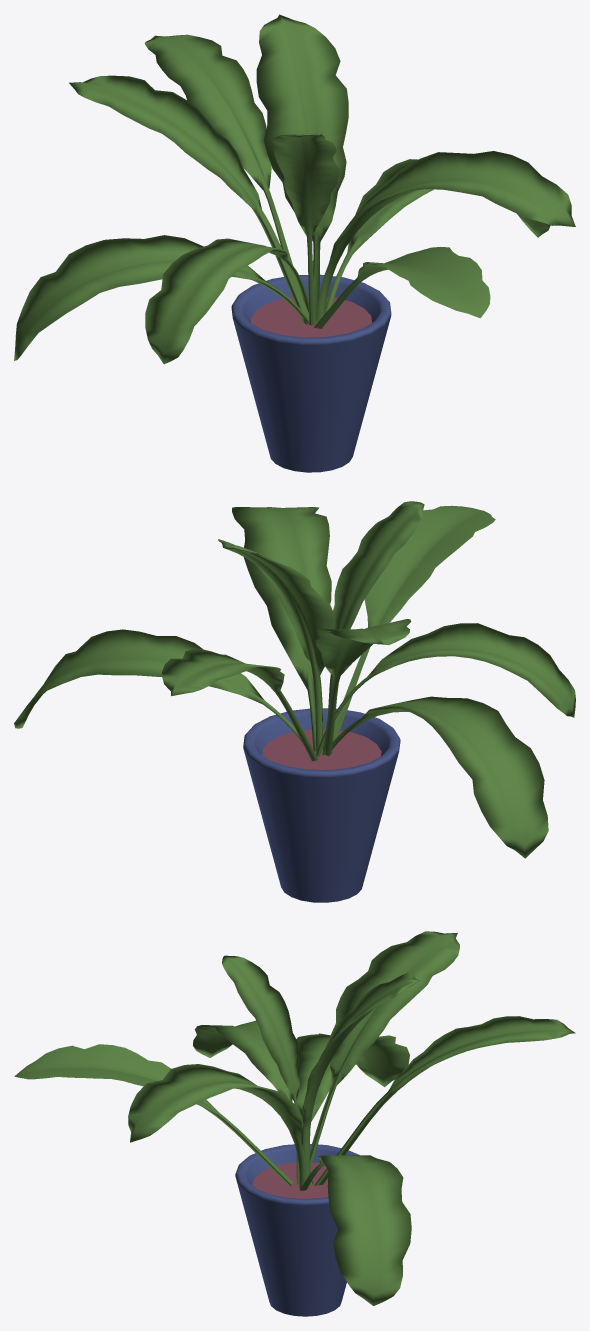
File: testblum.fbx
3 views of the same model, one above another, from view 1: azimuth 30°, elevation 25°; view 2: azimuth 150°, elevation 25°; view 3: azimuth 270°, elevation 25° (orthographic). The views are drawn at different scales.
Visible parts, largest first — view 1: polySurface10, polySurface6, polySurface2, polySurface4, polySurface9, polySurface7, polySurface8, polySurface1, polySurface5, polySurface3; view 2: polySurface10, polySurface4, polySurface2, polySurface8, polySurface1, polySurface3, polySurface5, polySurface6, polySurface9, polySurface7; view 3: polySurface10, polySurface3, polySurface7, polySurface2, polySurface1, polySurface9, polySurface5, polySurface4, polySurface6, polySurface8.
Boxes of the visible parts, x1,y1,x2,y2 form: polySurface10: (231, 274, 391, 472); polySurface6: (256, 14, 348, 320); polySurface2: (316, 151, 575, 322); polySurface4: (14, 235, 308, 360); polySurface9: (144, 34, 302, 297); polySurface7: (69, 75, 308, 324); polySurface8: (145, 238, 308, 364); polySurface1: (314, 247, 490, 328); polySurface5: (272, 133, 339, 325); polySurface3: (325, 159, 550, 312); polySurface10: (243, 708, 400, 902); polySurface4: (322, 696, 548, 858); polySurface2: (232, 507, 331, 751); polySurface8: (316, 623, 575, 757); polySurface1: (332, 505, 495, 749); polySurface3: (14, 629, 302, 742); polySurface5: (328, 501, 424, 713); polySurface6: (218, 539, 335, 753); polySurface9: (162, 649, 318, 761); polySurface7: (315, 619, 411, 756); polySurface10: (235, 1144, 359, 1316); polySurface3: (300, 1155, 411, 1305); polySurface7: (310, 931, 459, 1168); polySurface2: (128, 1064, 306, 1188); polySurface1: (14, 1044, 293, 1185); polySurface9: (314, 1016, 575, 1185); polySurface5: (222, 955, 299, 1184); polySurface4: (296, 1033, 409, 1121); polySurface6: (301, 972, 420, 1185); polySurface8: (193, 1020, 312, 1185).
Size of the model in its own units: 2.46 by 1.71 by 2.6.
